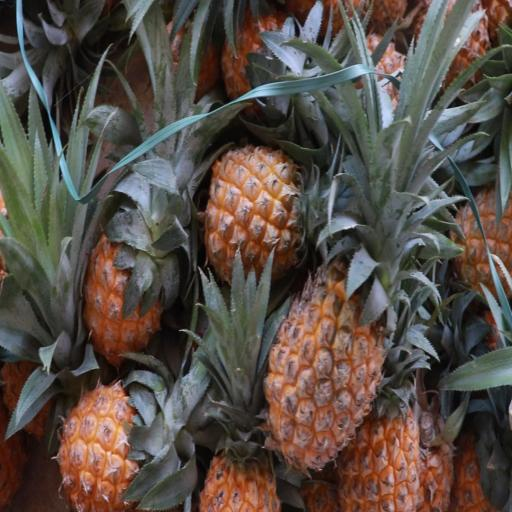Pineapple - v8 v1: (254, 241, 400, 484), (188, 132, 328, 298), (41, 366, 174, 512), (76, 201, 184, 372), (196, 366, 285, 512), (218, 0, 321, 126), (335, 367, 424, 512)
